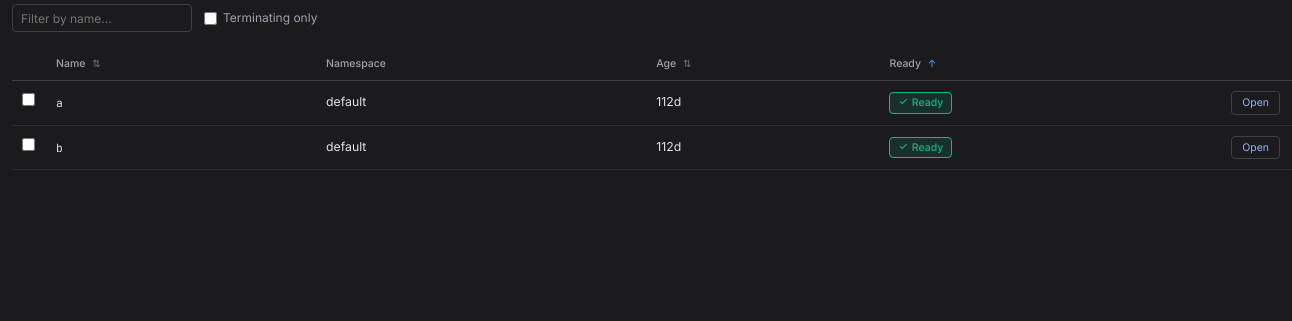
Test: InstanceTable › opens spec diff panel when 2 instances selected and Compare clicked
Click the checkbox with test id "select-a" at x=28, y=100, box [22,93,34,106]
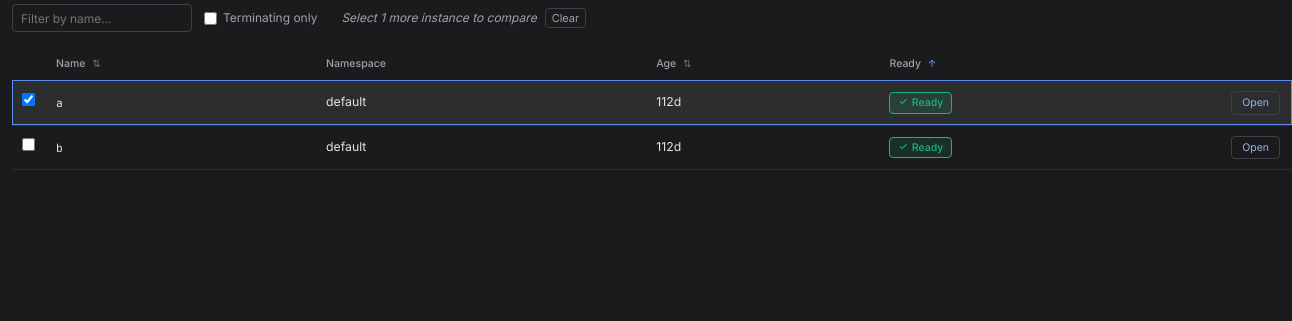
Click the checkbox with test id "select-b" at x=28, y=145, box [22,138,34,151]
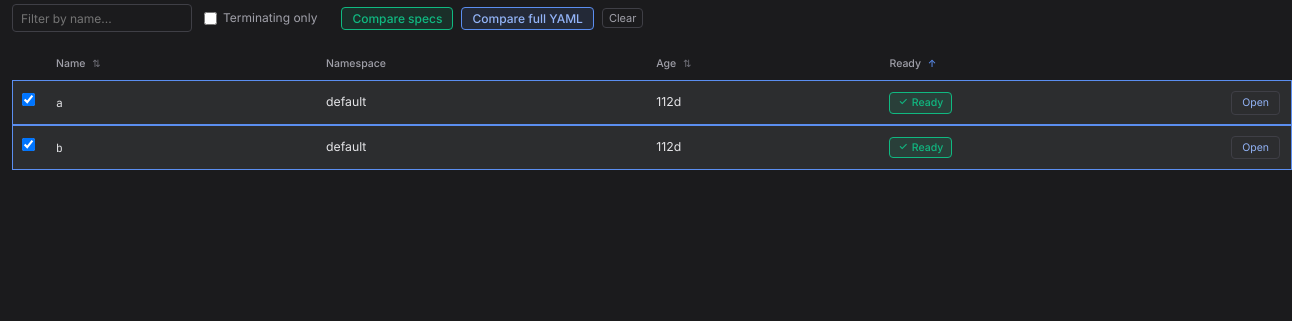
Click the button with test id "compare-btn" at x=397, y=18, box [341,6,453,30]
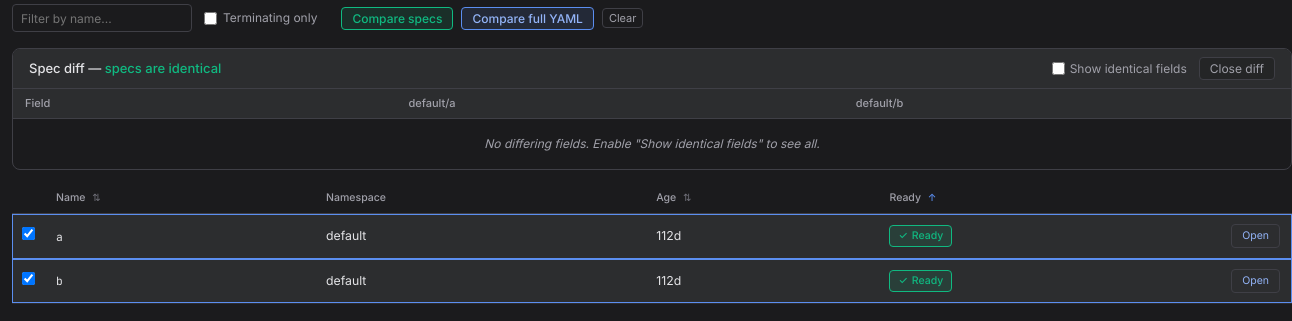
Now the element with test id "spec-diff-panel" is shown, box [12,48,1291,170]
